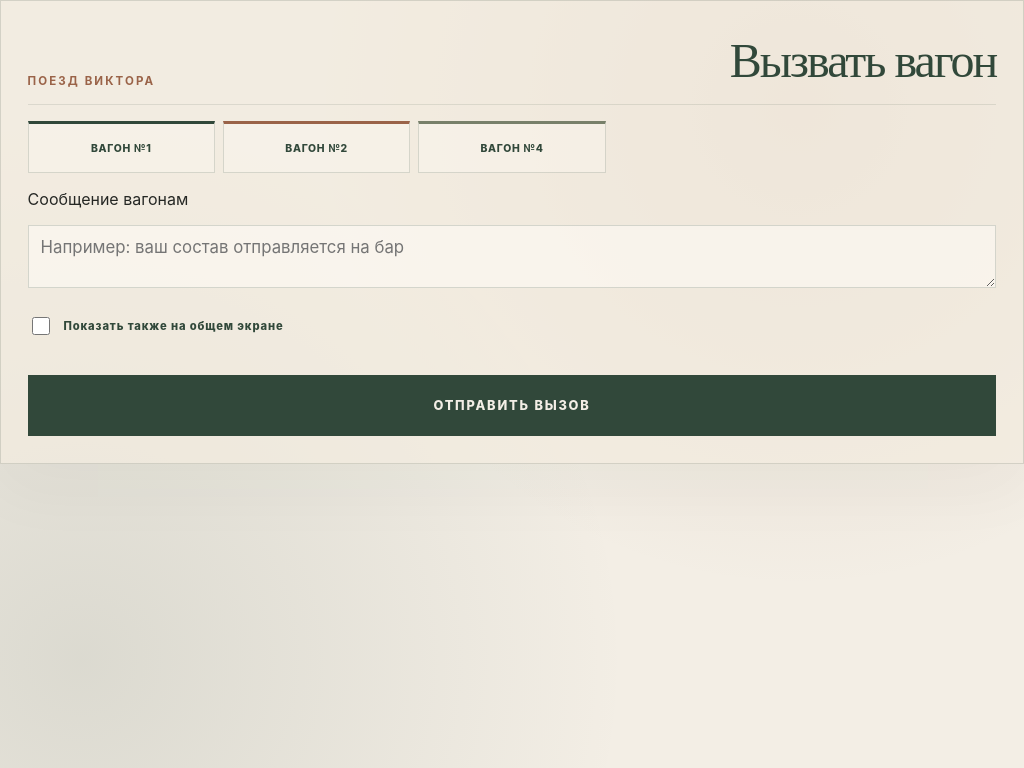
Test: AdminCarriageCalls › sends a message to one or multiple selected carriages
Click the checkbox named "Выбрать ВАГОН №2": point(317, 147) [223,121,410,173]
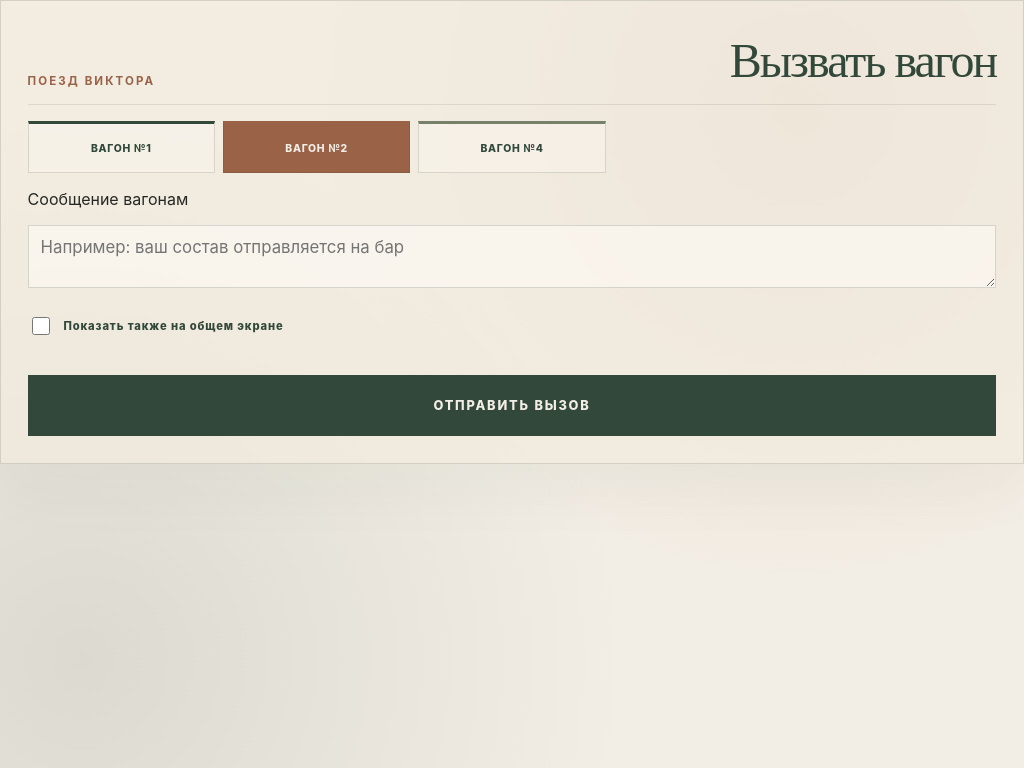
Click the checkbox named "Выбрать ВАГОН №4": point(512, 147) [418,121,606,173]
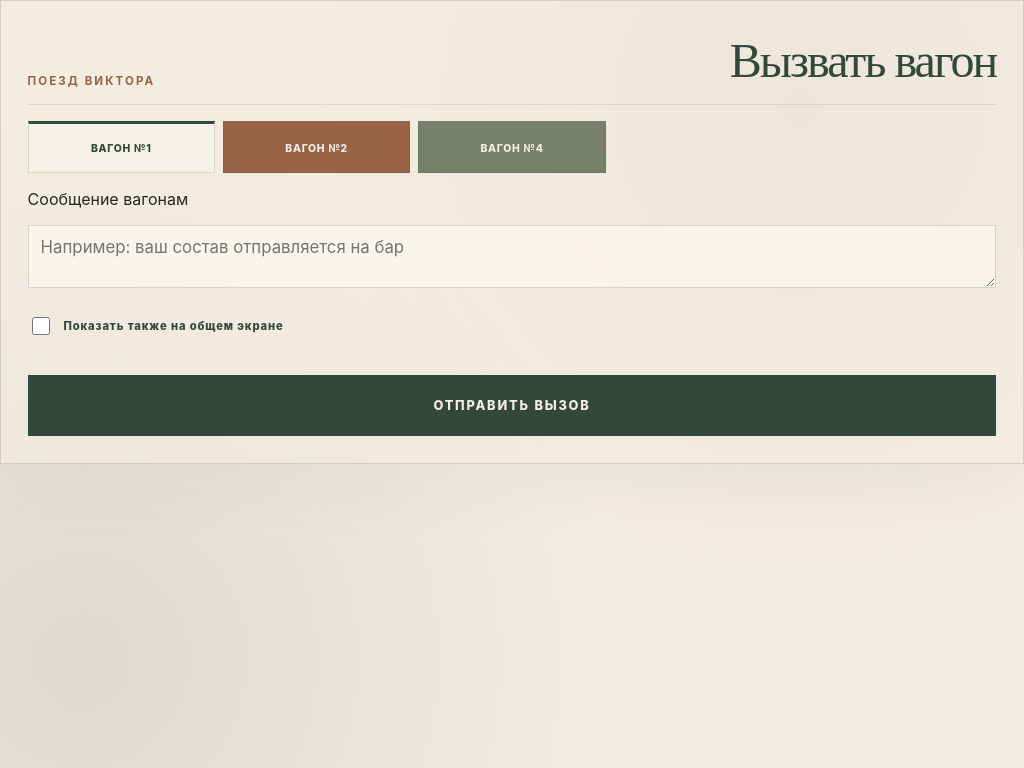
In the text box labelled "Сообщение вагонам": point(512, 257) [28,225,996,288], type "Готовимся к следующему конкурсу"
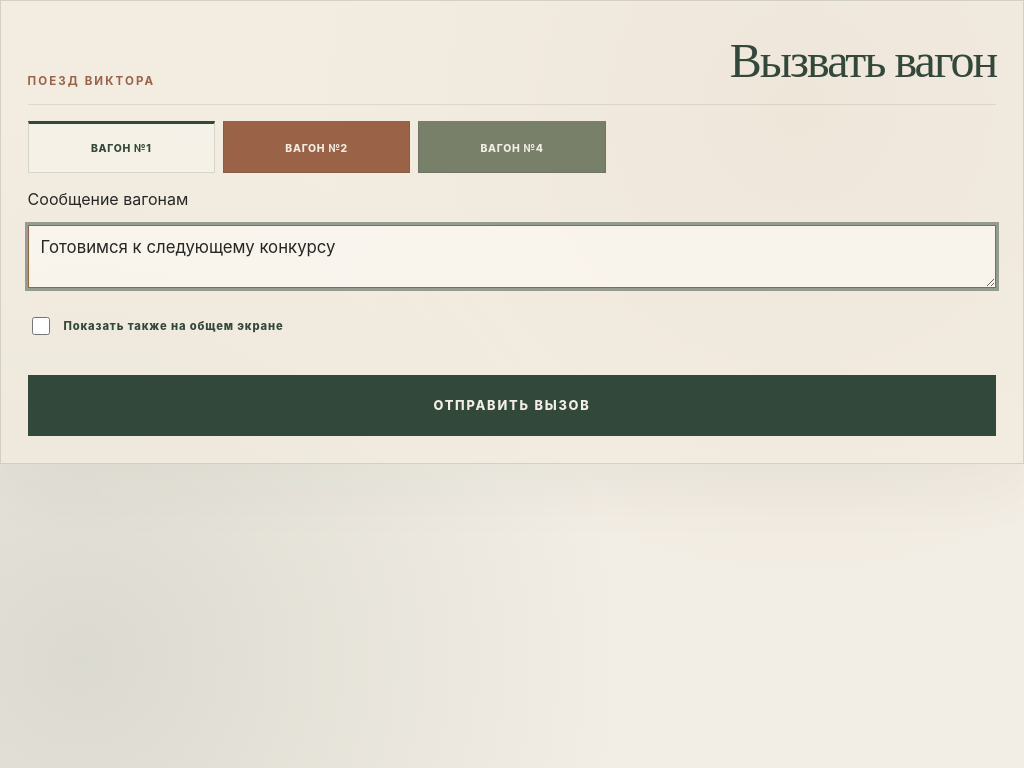
Click the checkbox labelled "Показать также на общем экране": point(41, 326) [32,317,50,335]
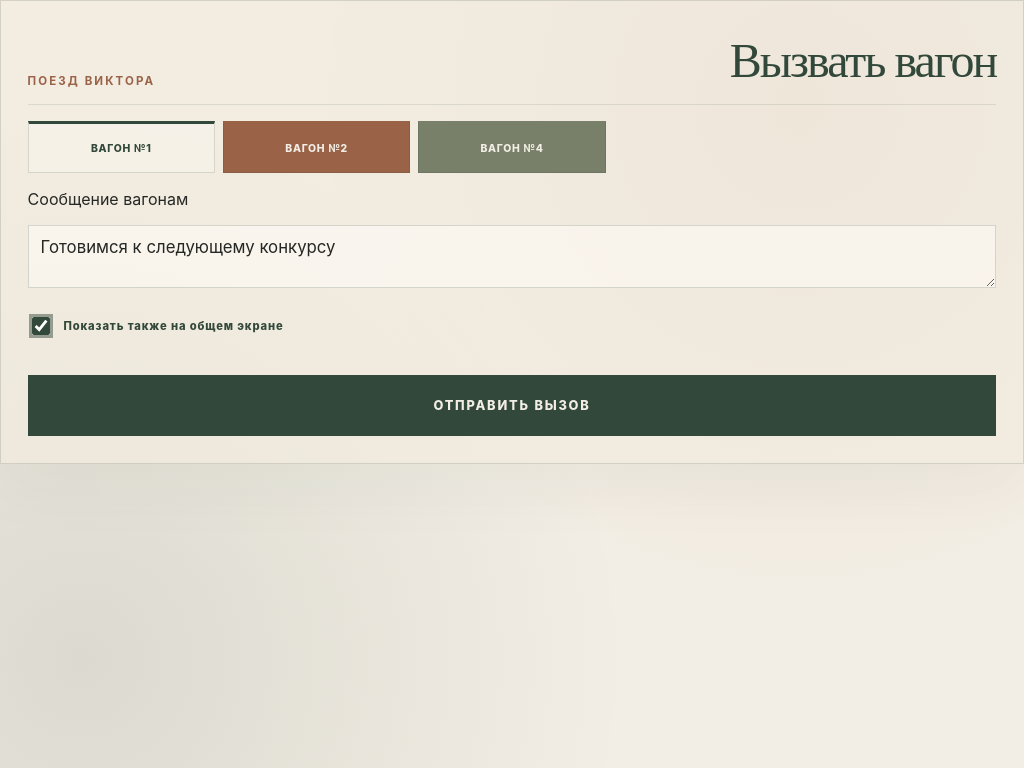
Click the button "ОТПРАВИТЬ ВЫЗОВ": point(512, 406) [28,375,996,436]
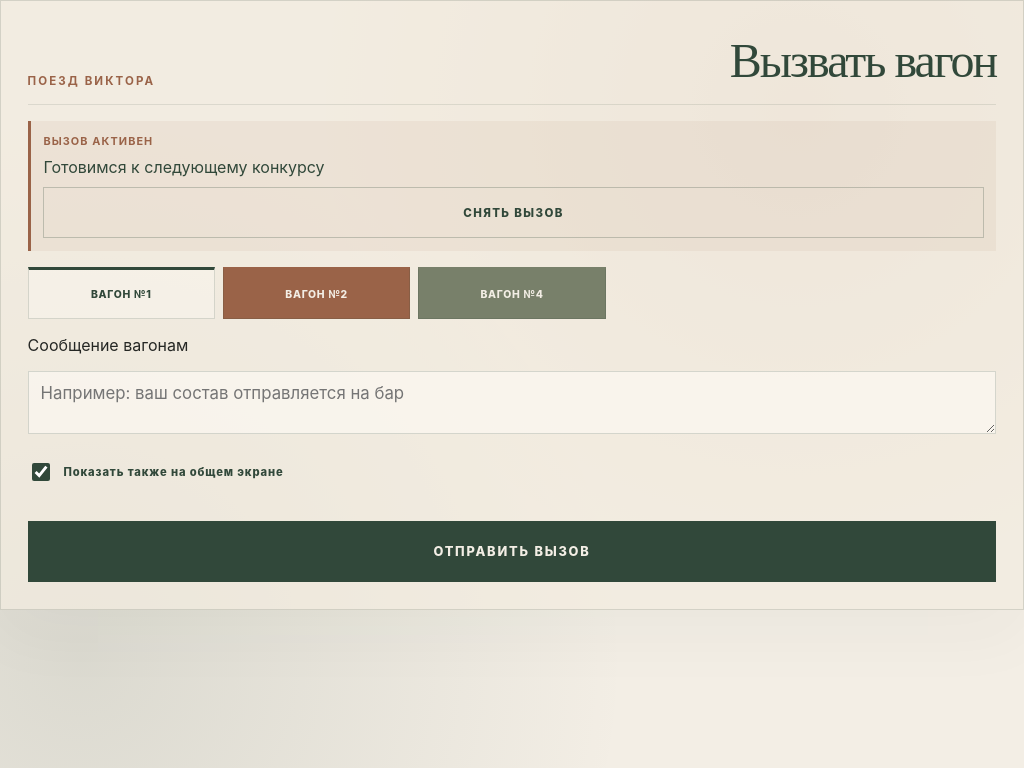
Result: the text "ВЫЗОВ АКТИВЕН" is shown at [43,134,153,148]
